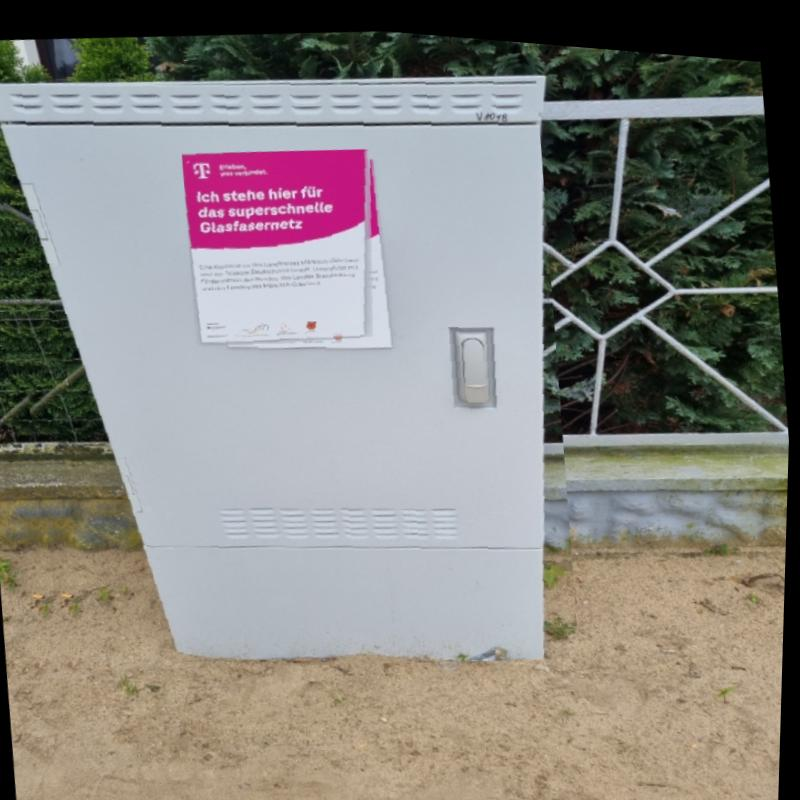NT-Gehause: (0, 75, 537, 654)
Steaker: (183, 145, 371, 339)
